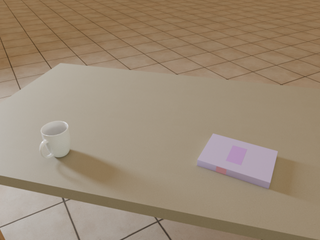book: (197, 134, 278, 188)
cup: (40, 121, 71, 158)
